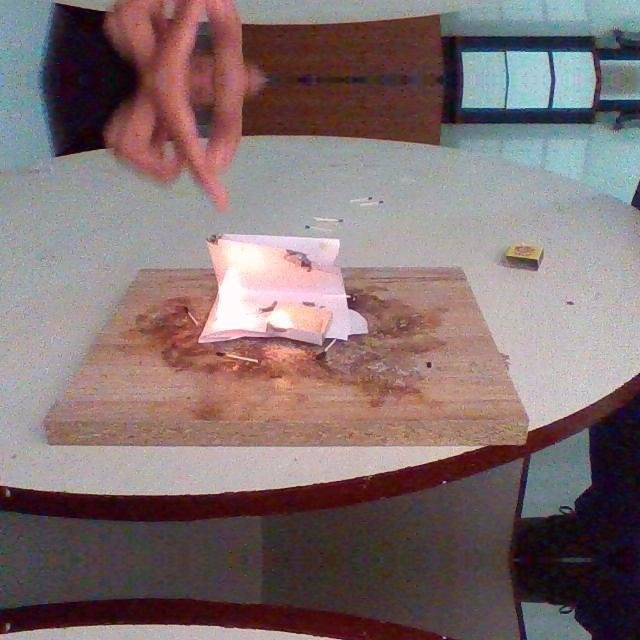smoke: (215, 270, 261, 332)
